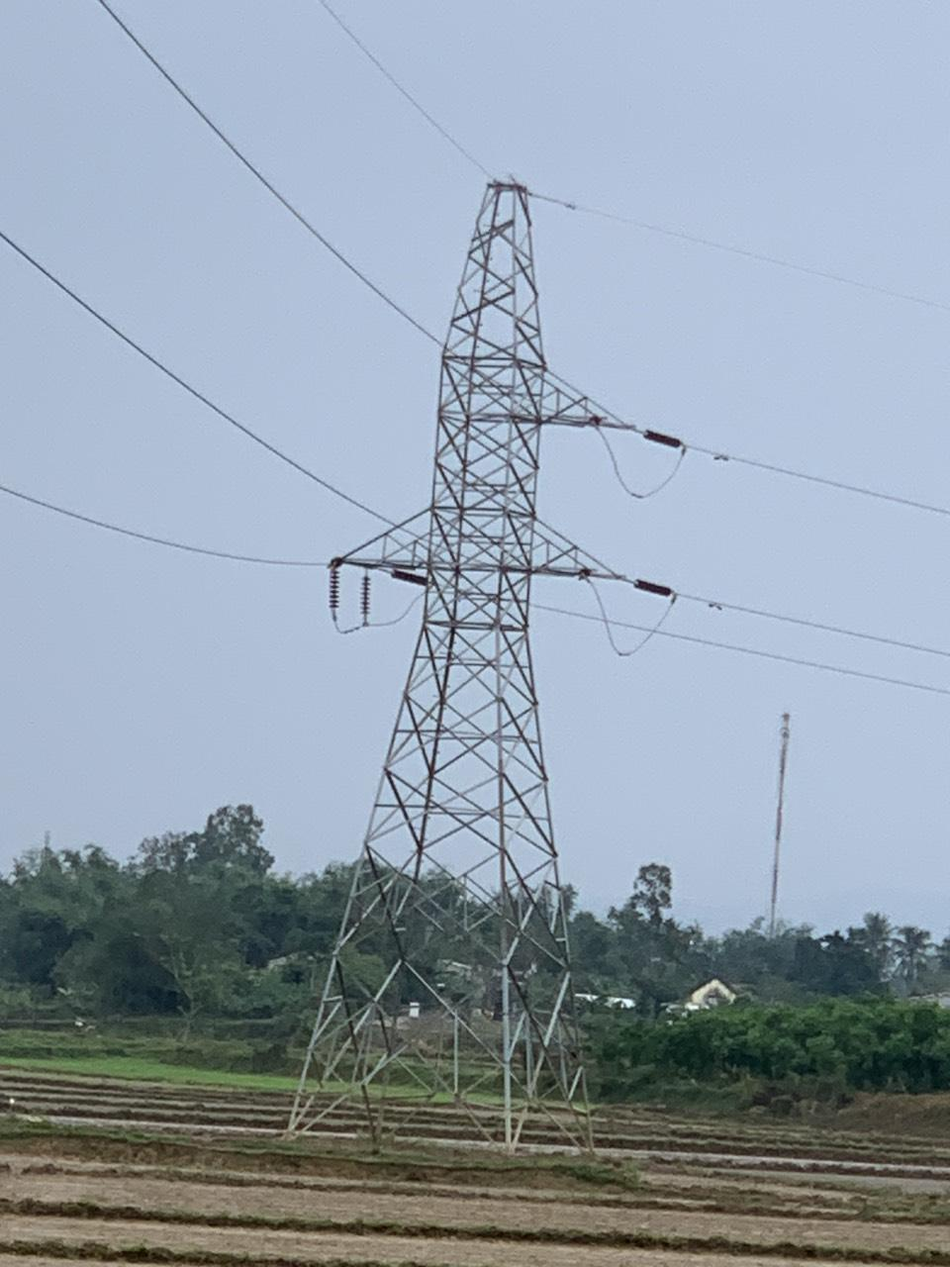power_tower: (303, 141, 600, 1142)
